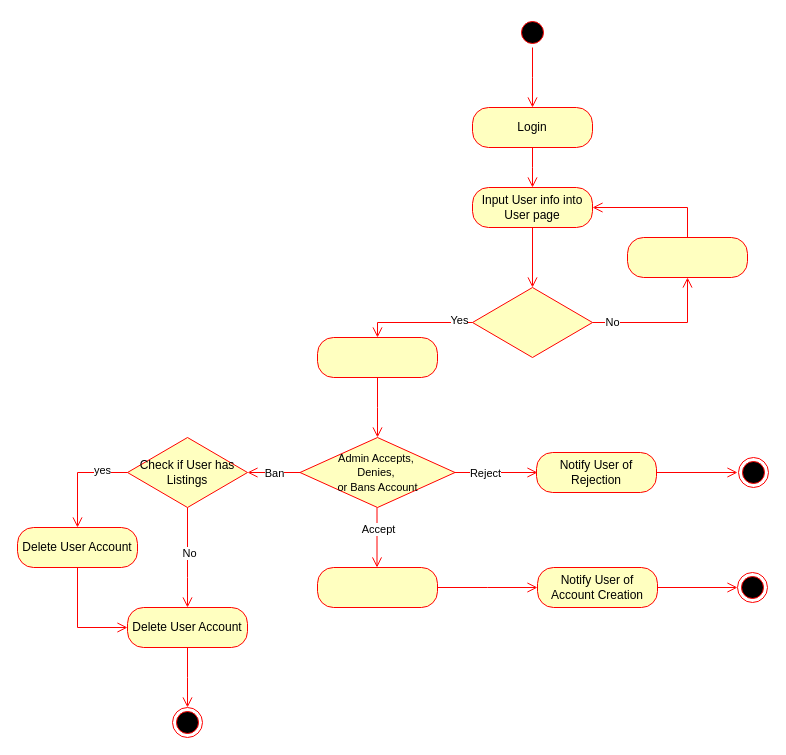
The diagram is 786 pixels wide and 755 high, and some of its shapes have lost their labels. Each missing label, with the box of its shape:
Access User Account page: (316, 336, 438, 378)
Create New Account With provided info: (316, 566, 438, 608)
Prompt Admin to Try Again: (626, 236, 748, 278)
User Info is valid: (472, 286, 592, 358)
